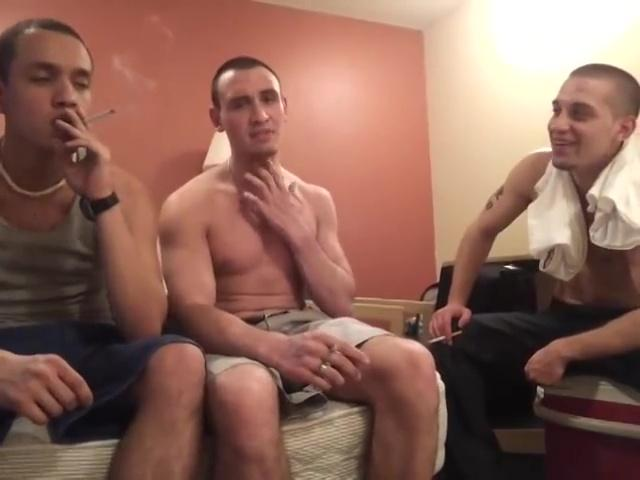cigarette: (85, 104, 119, 125), (426, 328, 467, 345)
